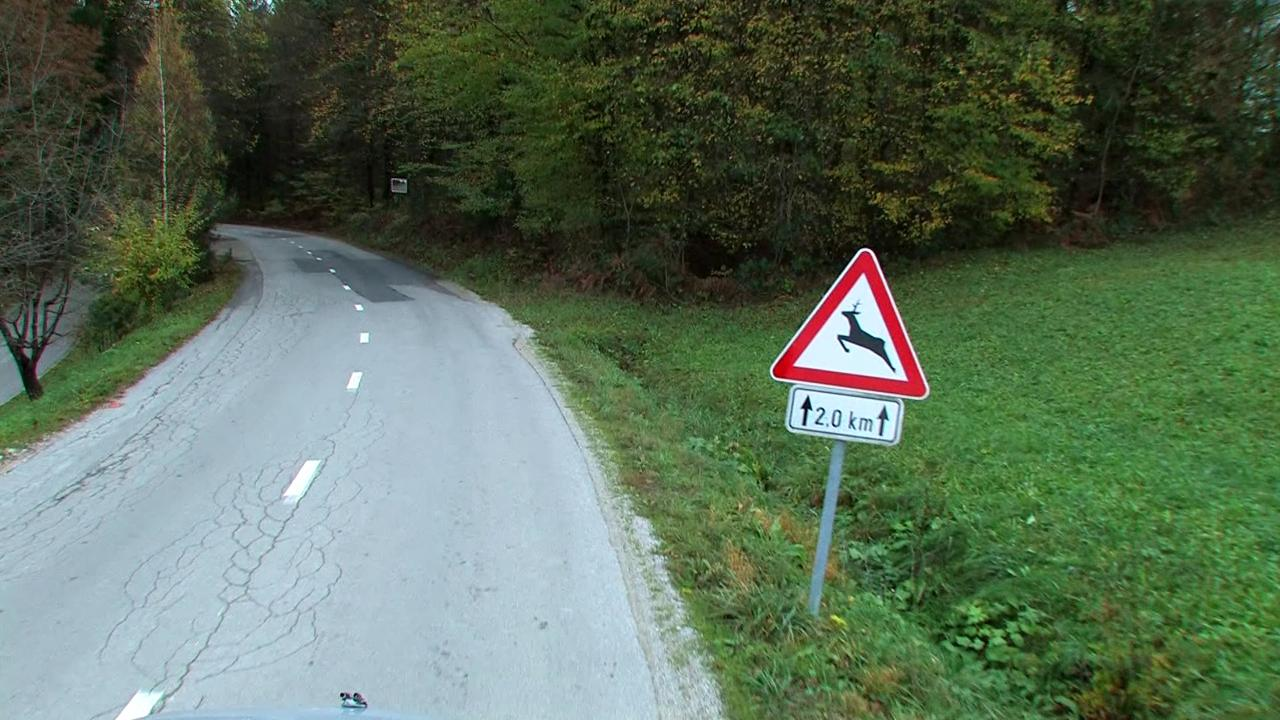Rectangle: (788, 384, 904, 448)
Triangle: (773, 248, 931, 398)
